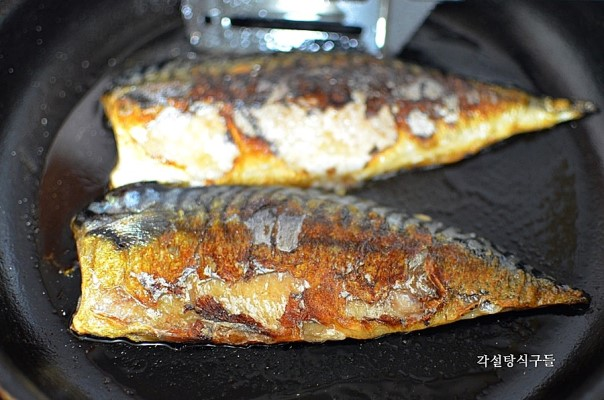godeung-eogu-i: (66, 185, 592, 343), (103, 47, 595, 183)
